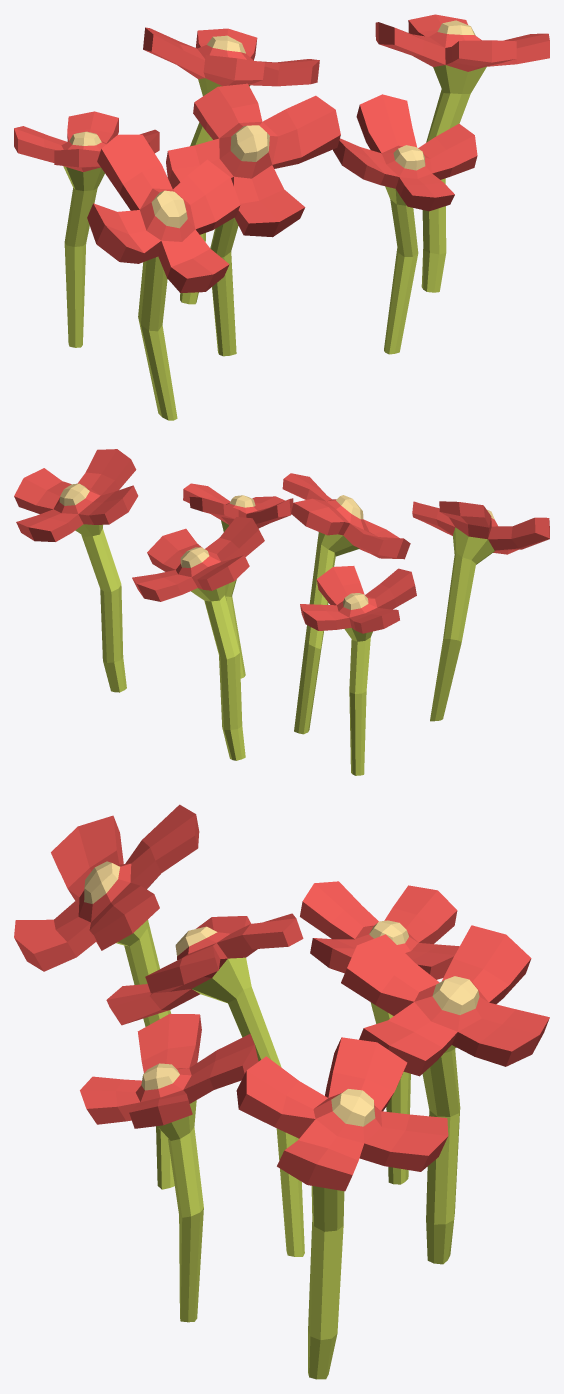
Rendered from flowers-red.fbx.
3 renders of one model, top to bottom at view 1: azimuth 30°, elevation 25°; view 2: azimuth 150°, elevation 25°; view 3: azimuth 270°, elevation 25°, orthographic. The views are drawn at different scales.
Visible parts, largest first — view 1: flowers-red_LOD0; view 2: flowers-red_LOD0; view 3: flowers-red_LOD0.
Part boxes in pixels (<box>): flowers-red_LOD0: <box>14,14,549,420</box>; flowers-red_LOD0: <box>14,449,549,775</box>; flowers-red_LOD0: <box>14,804,549,1379</box>.
Size of what is drawn, in the model's own units: 2.65 by 1.32 by 1.84.
